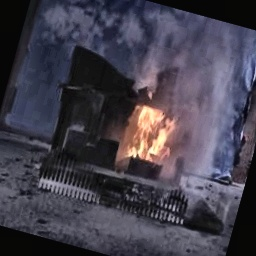fire: (106, 86, 187, 179)
